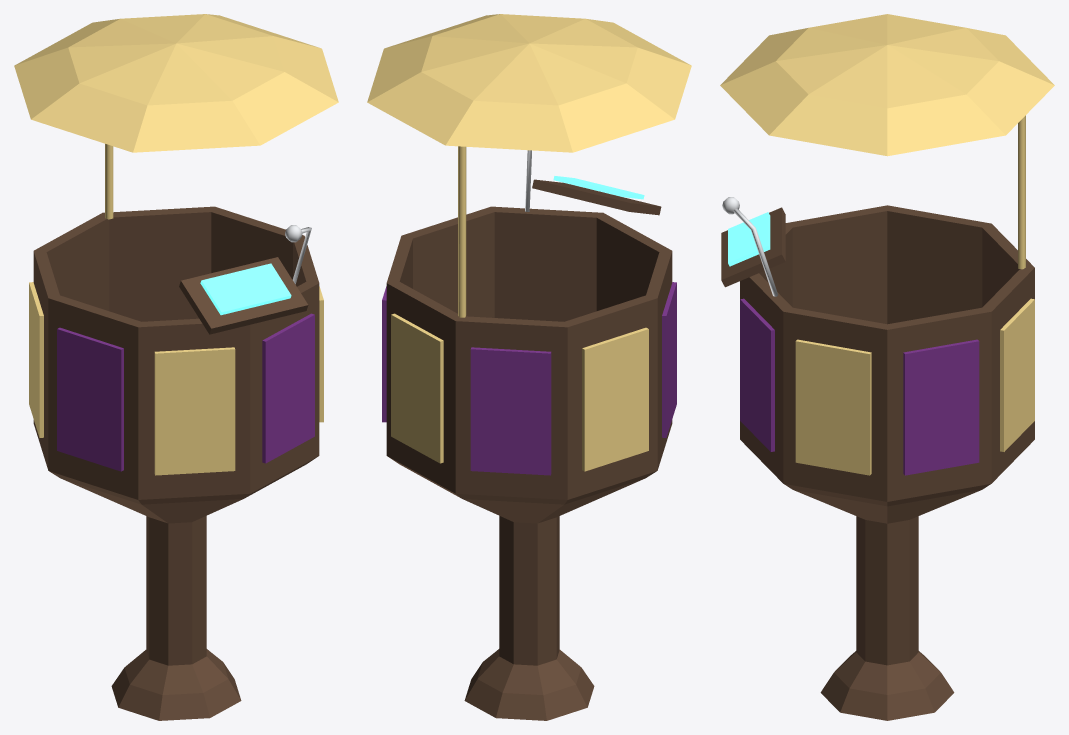
Rendered from bb_pulpit.glb.
The picture shows the model from 3 angles, left to right: view 1: azimuth 30°, elevation 25°; view 2: azimuth 150°, elevation 25°; view 3: azimuth 270°, elevation 25°; orthographic projection.
Visible parts, largest first — view 1: bb_pulpit; view 2: bb_pulpit; view 3: bb_pulpit.
Boxes of the visible parts, x1=… form: bb_pulpit: x1=14, y1=14, x2=338, y2=720; bb_pulpit: x1=367, y1=14, x2=691, y2=720; bb_pulpit: x1=720, y1=14, x2=1054, y2=720.
Bounding box in the file's own units: 1.5 × 3.2 × 1.5.
